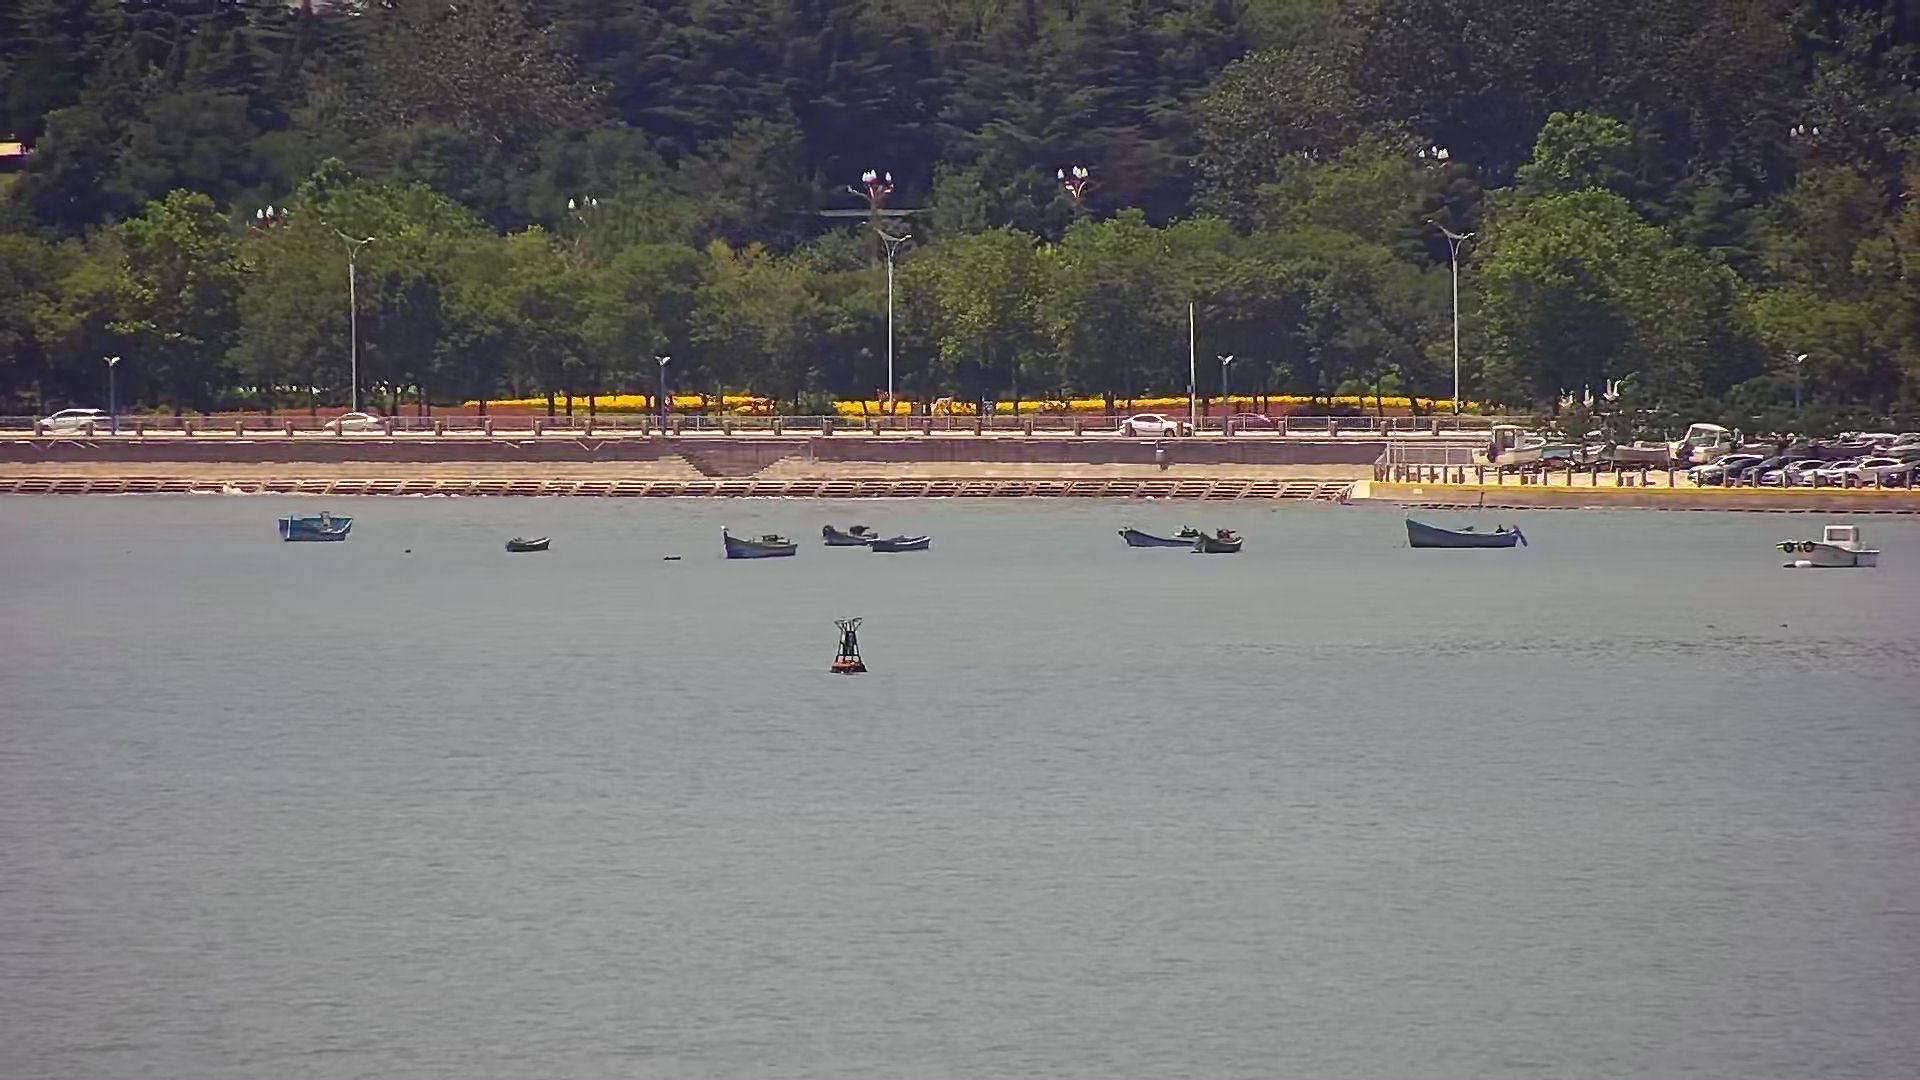boat: (1404, 508, 1532, 554), (1774, 522, 1886, 574), (266, 498, 359, 549), (712, 524, 799, 564), (1108, 516, 1201, 553), (818, 516, 882, 549), (870, 531, 936, 554), (498, 531, 555, 556), (1200, 527, 1247, 556)
buoy: (829, 603, 869, 683)
